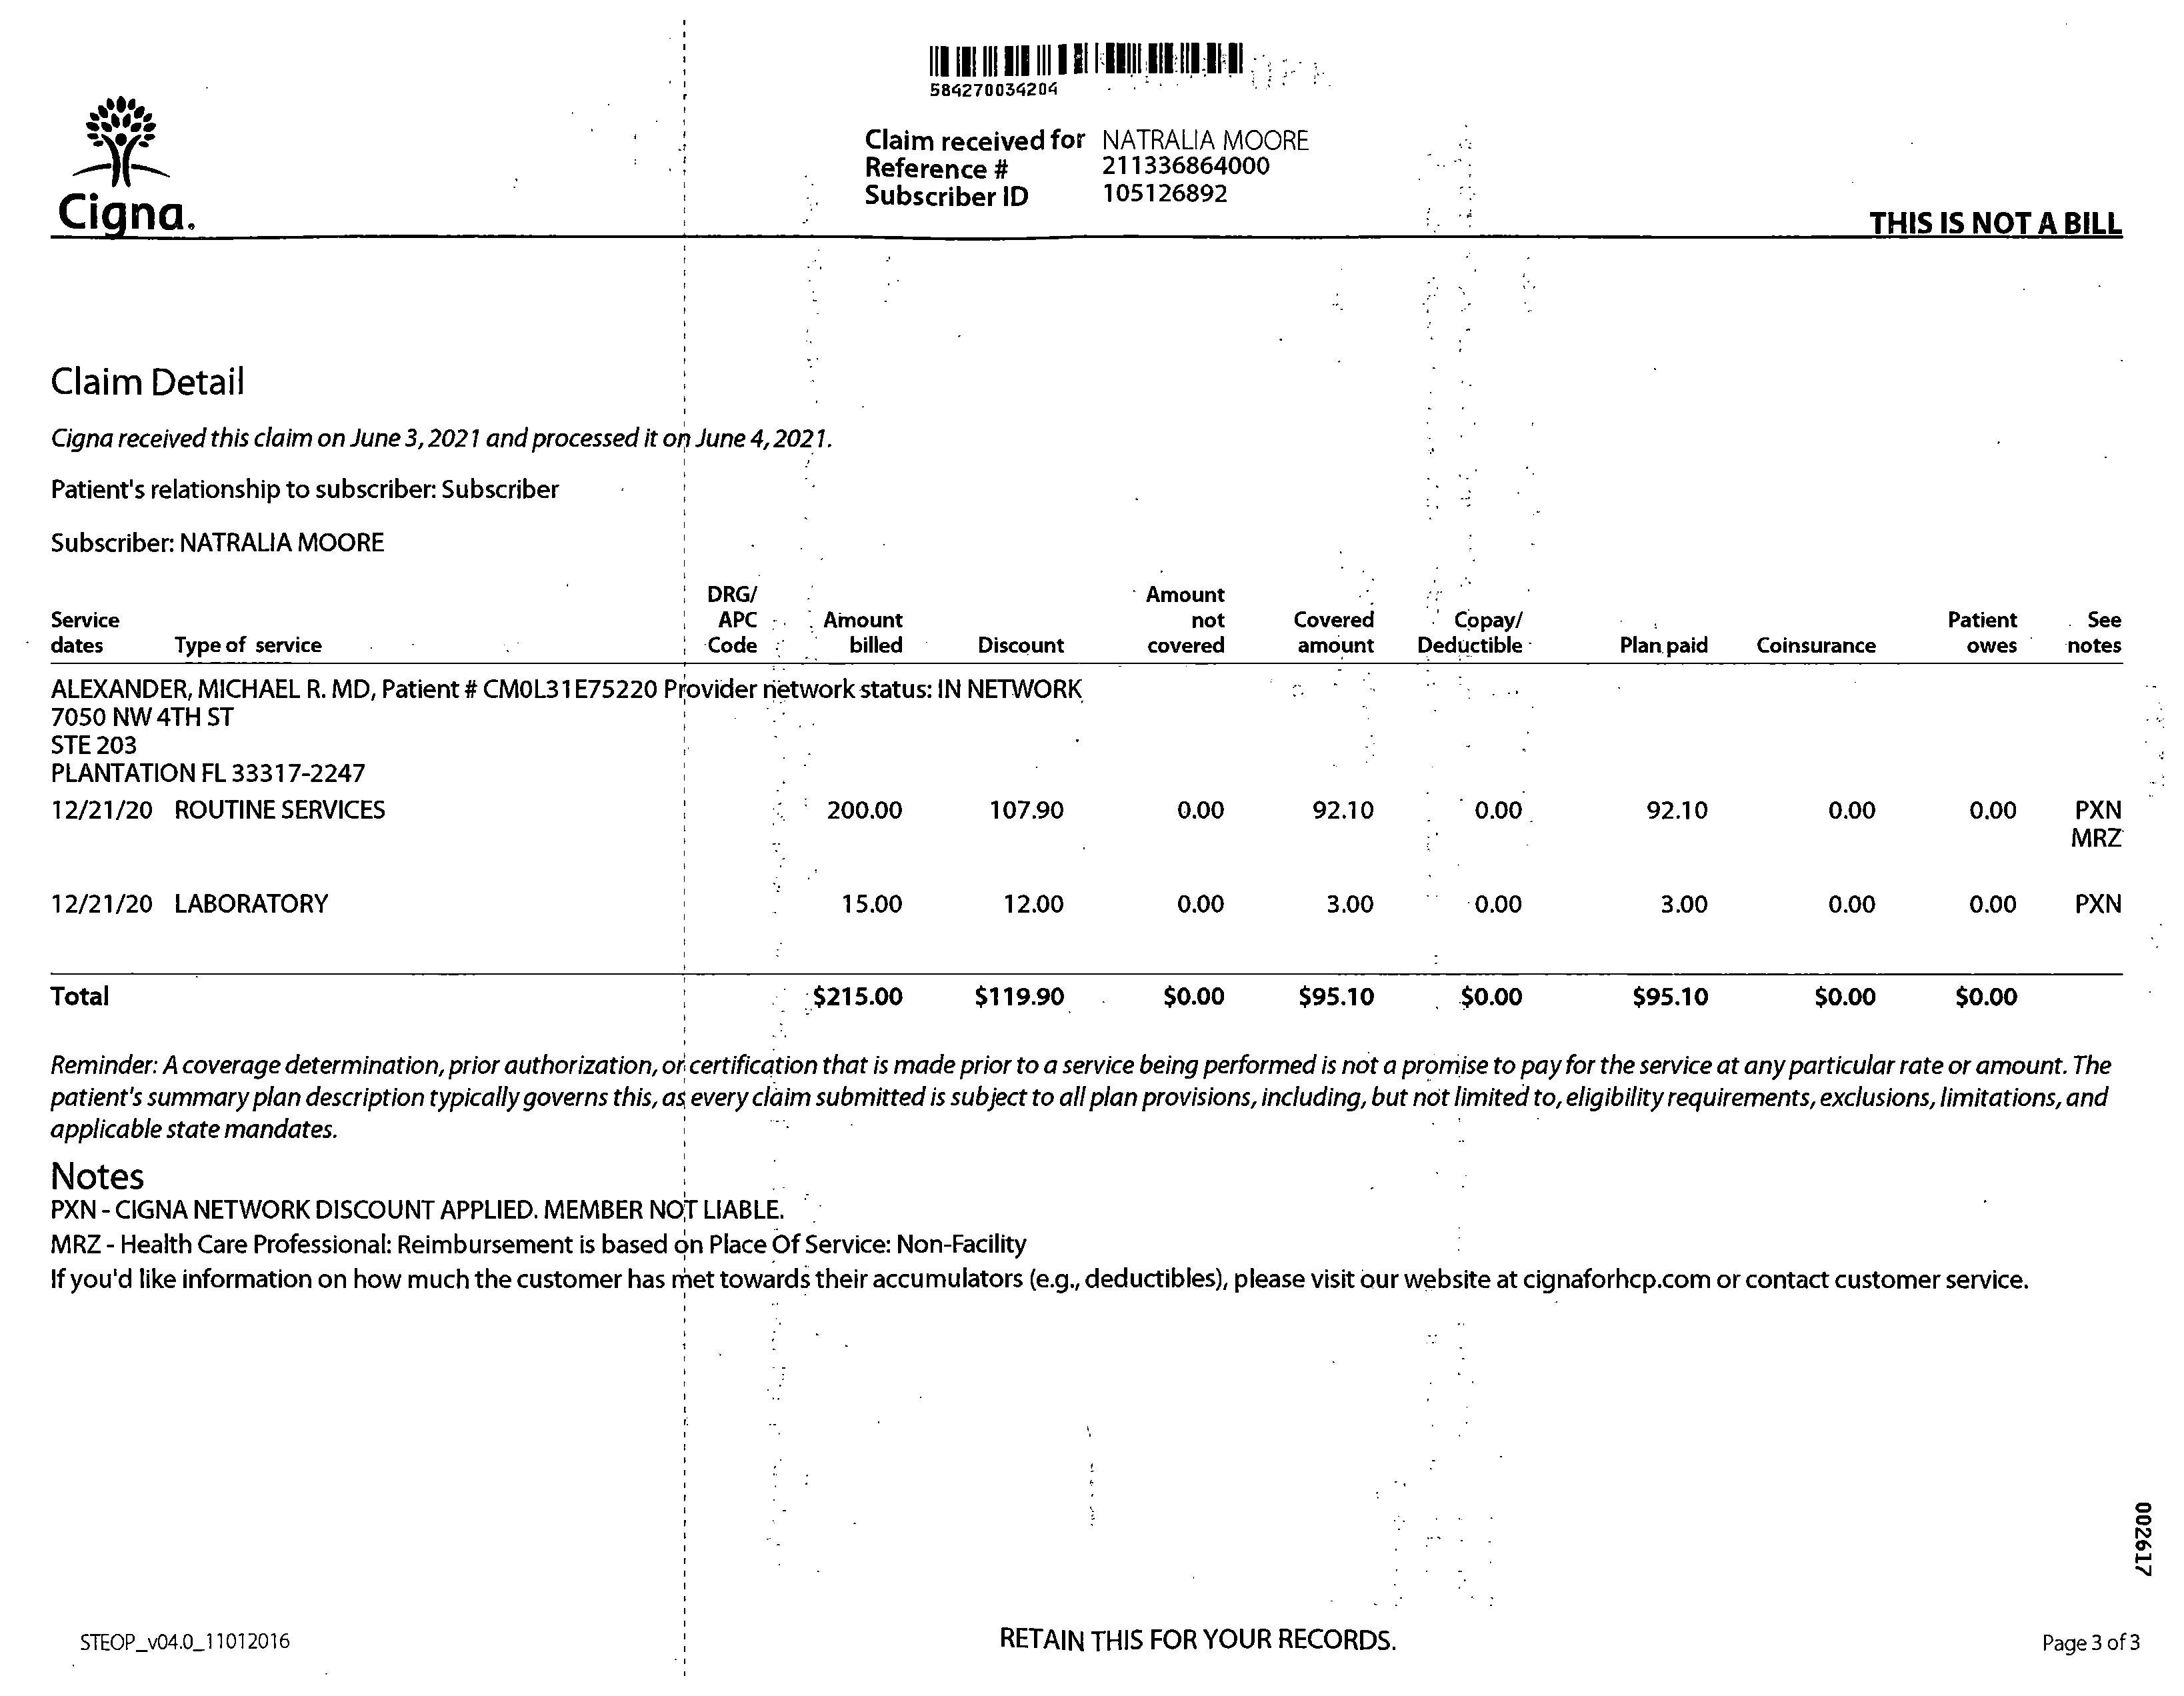data: (853, 115, 1335, 223)
table: (34, 590, 2166, 1019)
